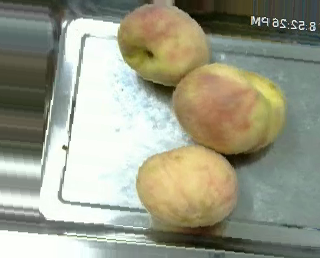Peach: (171, 62, 285, 154), (134, 145, 237, 228), (115, 3, 210, 87)
